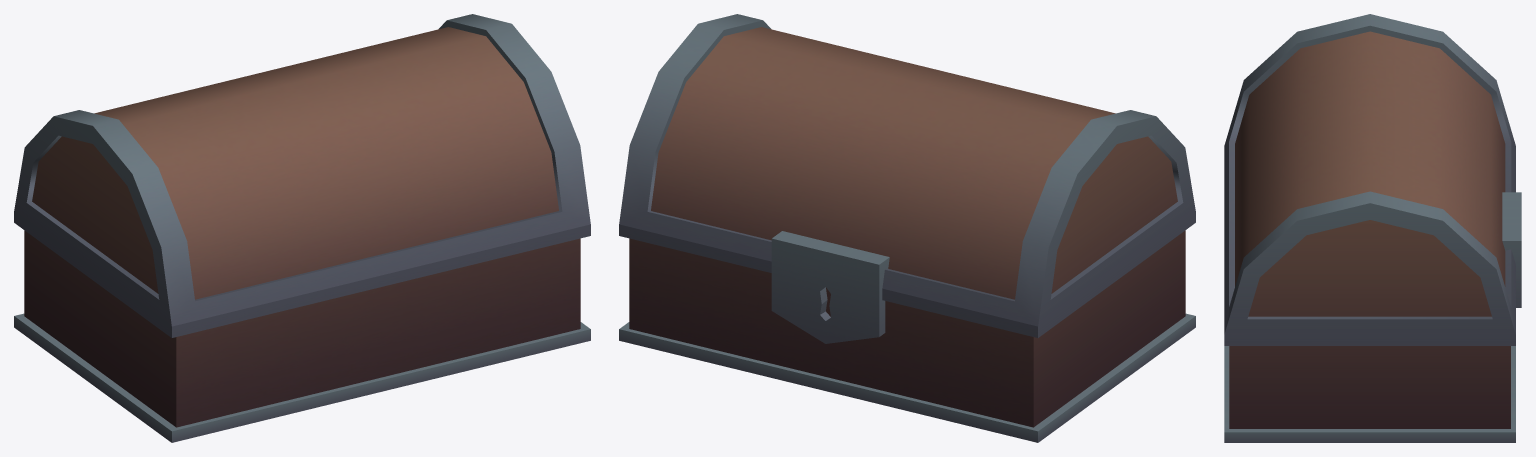
The model's file is Baú.fbx.
The picture shows the model from 3 angles, left to right: view 1: azimuth 30°, elevation 25°; view 2: azimuth 150°, elevation 25°; view 3: azimuth 270°, elevation 25°; orthographic projection. The views are drawn at different scales.
Visible parts, largest first — view 1: Baú Export; view 2: Baú Export; view 3: Baú Export.
Boxes of the visible parts, x1=… form: Baú Export: x1=14, y1=14, x2=590, y2=442; Baú Export: x1=619, y1=14, x2=1195, y2=442; Baú Export: x1=1224, y1=14, x2=1521, y2=442.
Bounding box in the file's own units: 146 × 86.34 × 97.04.
